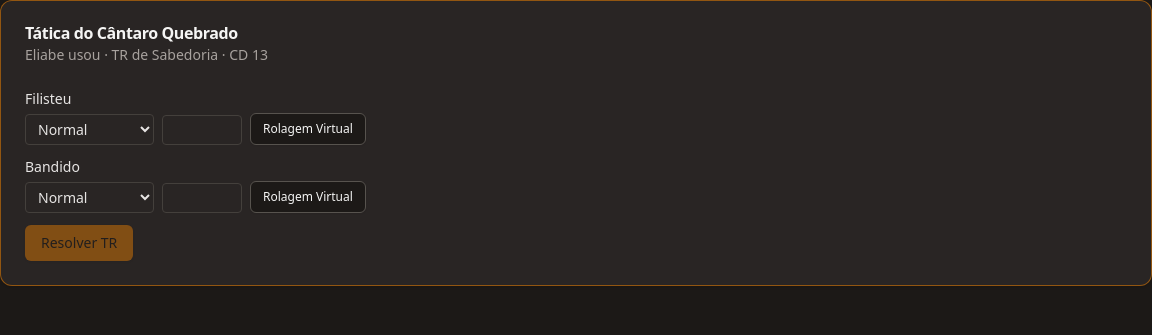
Test: AbilityPendingPanel › o erro do serviço aparece e o painel continua
In the number field named "d20 de Filisteu": (202, 130) left=162, top=115, right=242, bottom=145, type "12"
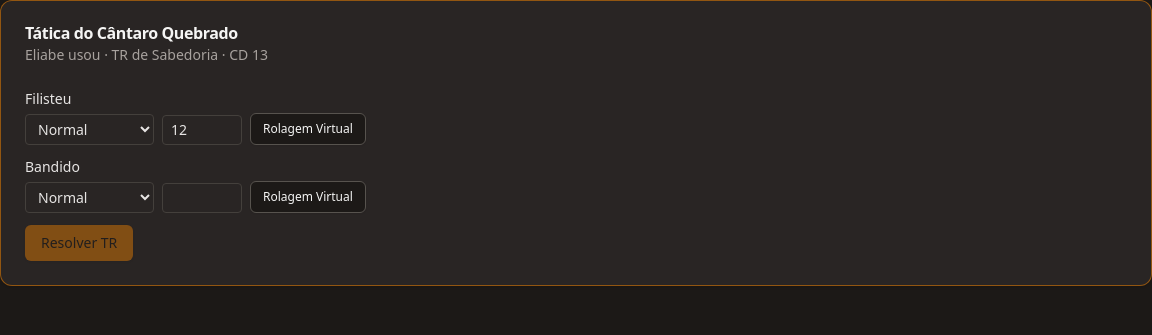
In the number field named "d20 de Bandido": (202, 198) left=162, top=183, right=242, bottom=213, type "7"
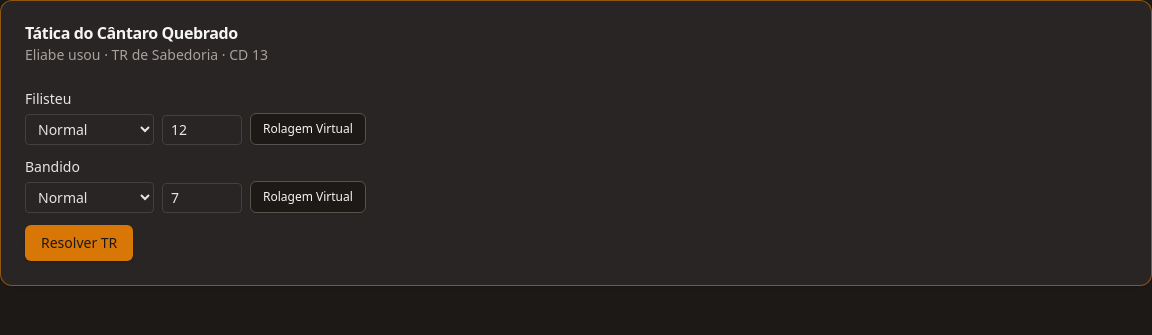
Click the button "Resolver TR": (79, 243) left=25, top=225, right=133, bottom=261
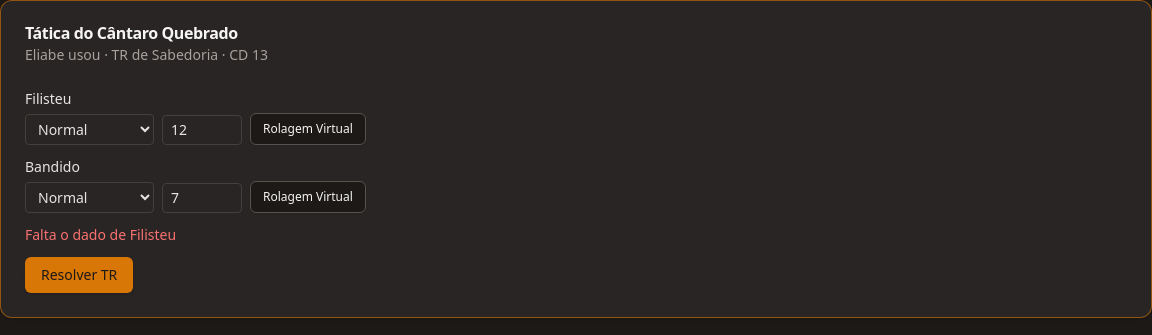
Expected: the button "Resolver TR" is enabled, left=25, top=257, right=133, bottom=293
Expected: the message reads "Falta o dado de Filisteu", left=25, top=225, right=176, bottom=244
